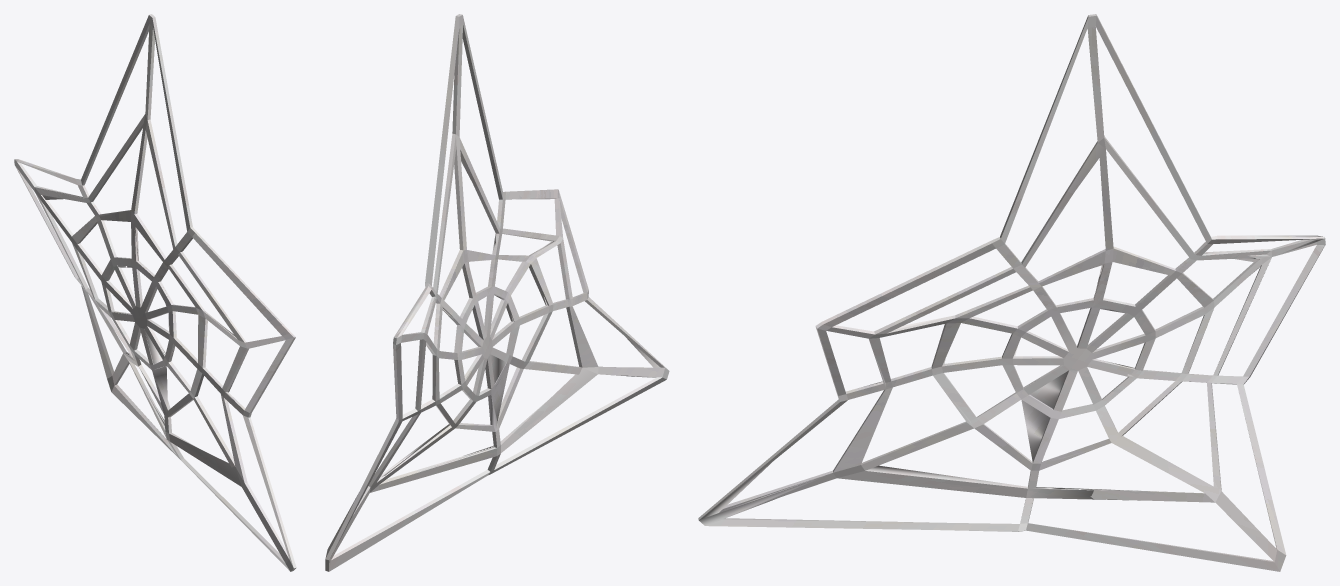
The model's file is item_halloween_web.glb.
3 renders of one model, left to right at view 1: azimuth 30°, elevation 25°; view 2: azimuth 150°, elevation 25°; view 3: azimuth 270°, elevation 25°, orthographic. The views are drawn at different scales.
Visible parts, largest first — view 1: web; view 2: web; view 3: web.
Part boxes in pixels (left/top/right/bottom): web: left=14, top=14, right=296, bottom=571; web: left=325, top=14, right=669, bottom=571; web: left=698, top=14, right=1325, bottom=571.
Size of the model in its own units: 0.2755 by 1.39 by 1.48.
Materials: 1 (1 with a texture image).
